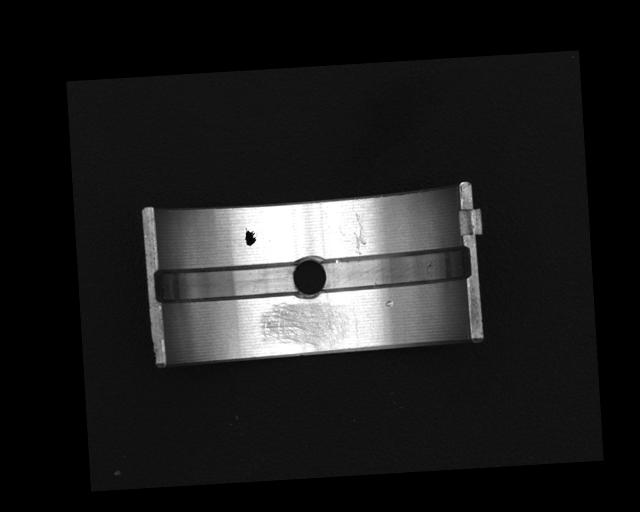blot: (243, 225, 257, 247)
bruise: (384, 298, 395, 308)
gap: (318, 244, 470, 295), (153, 260, 299, 305)
hole: (291, 253, 328, 300)
nick: (351, 210, 367, 256)
scratch: (257, 299, 352, 354)
